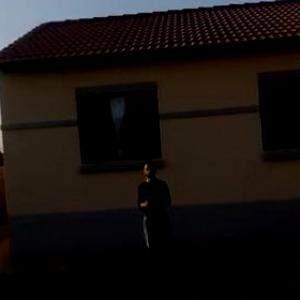follow: (135, 153, 180, 294)
